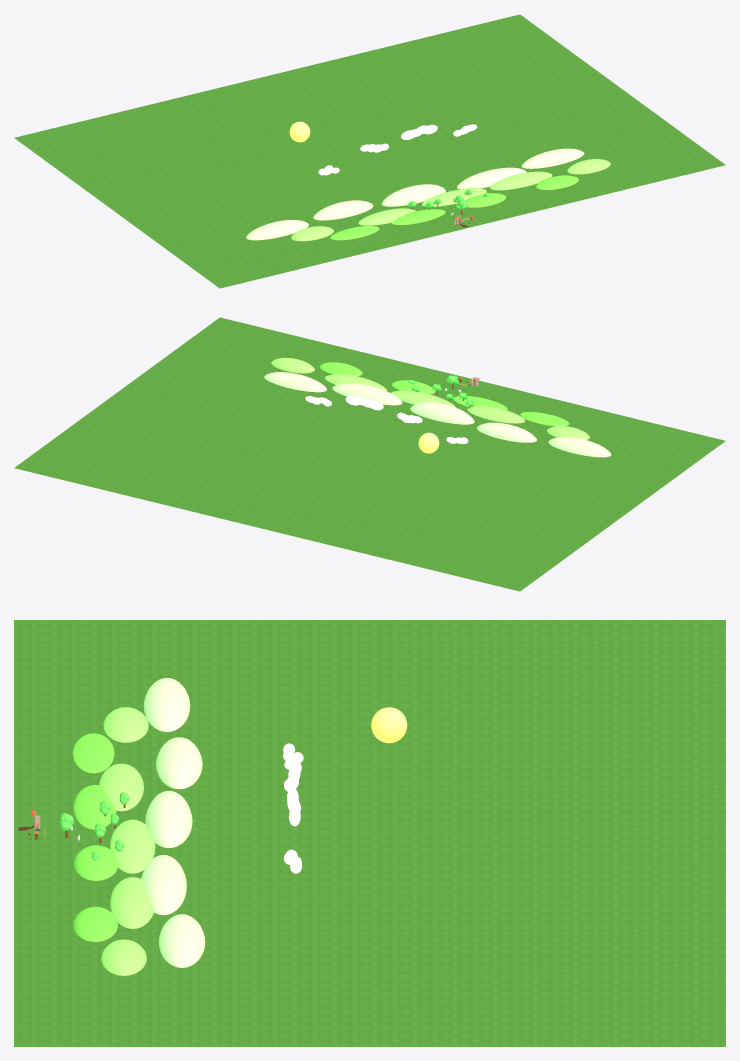
File: garten1776.glb
The picture shows the model from 3 angles, top to bottom: view 1: azimuth 30°, elevation 25°; view 2: azimuth 150°, elevation 25°; view 3: azimuth 270°, elevation 25°; orthographic projection. The views are drawn at different scales.
Visible parts, largest first — view 1: GA_Wiese.001, GA_Huegel6.001, GA_Huegel12.001, GA_Huegel0.001, GA_Huegel3.001, GA_Huegel9.001, GA_Huegel10.001, GA_Huegel4.001, GA_Huegel7.001, GA_Huegel5.001, GA_Huegel13.001, GA_Huegel1.001 (+2 smaller); view 2: GA_Wiese.001, GA_Huegel6.001, GA_Huegel9.001, GA_Huegel0.001, GA_Huegel12.001, GA_Huegel3.001, GA_Huegel4.001, GA_Huegel7.001, GA_Huegel13.001, GA_Huegel10.001, GA_Huegel2.001; view 3: GA_Wiese.001, GA_Huegel6.001, GA_Huegel9.001, GA_Huegel0.001, GA_Huegel12.001, GA_Huegel3.001, GA_Huegel7.001, GA_Huegel10.001, GA_Huegel4.001, GA_Huegel2.001, GA_Huegel13.001, GA_Huegel1.001 (+4 smaller).
Part boxes in pixels (<box>): GA_Wiese.001: <box>14,14,725,288</box>; GA_Huegel6.001: <box>381,184,445,206</box>; GA_Huegel12.001: <box>521,148,584,168</box>; GA_Huegel0.001: <box>246,220,308,240</box>; GA_Huegel3.001: <box>313,200,373,220</box>; GA_Huegel9.001: <box>457,167,526,189</box>; GA_Huegel10.001: <box>490,171,552,190</box>; GA_Huegel4.001: <box>358,208,415,225</box>; GA_Huegel7.001: <box>422,188,486,206</box>; GA_Huegel5.001: <box>391,209,445,225</box>; GA_Huegel13.001: <box>567,159,610,174</box>; GA_Huegel1.001: <box>291,226,333,241</box>; GA_Wiese.001: <box>14,317,725,591</box>; GA_Huegel6.001: <box>410,402,474,424</box>; GA_Huegel9.001: <box>332,383,402,405</box>; GA_Huegel0.001: <box>548,437,611,457</box>; GA_Huegel12.001: <box>264,372,326,392</box>; GA_Huegel3.001: <box>477,422,536,442</box>; GA_Huegel4.001: <box>467,406,524,423</box>; GA_Huegel7.001: <box>391,390,455,407</box>; GA_Huegel13.001: <box>271,357,314,373</box>; GA_Huegel10.001: <box>325,374,386,390</box>; GA_Huegel2.001: <box>520,412,569,426</box>; GA_Wiese.001: <box>14,620,725,1046</box>; GA_Huegel6.001: <box>145,791,192,847</box>; GA_Huegel9.001: <box>141,855,186,915</box>; GA_Huegel0.001: <box>143,678,190,731</box>; GA_Huegel12.001: <box>159,914,205,967</box>; GA_Huegel3.001: <box>156,737,202,789</box>; GA_Huegel7.001: <box>110,819,155,873</box>; GA_Huegel10.001: <box>110,877,153,928</box>; GA_Huegel4.001: <box>99,763,143,811</box>; GA_Huegel2.001: <box>73,733,114,773</box>; GA_Huegel13.001: <box>101,939,146,975</box>; GA_Huegel1.001: <box>103,707,148,742</box>.
Size of the model in its own units: 420 by 44.32 by 296.
Materials: 50 (6 with a texture image).
